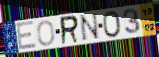3: (122, 8, 142, 35)
E: (15, 20, 38, 52)
N: (79, 12, 102, 43)
O: (102, 10, 123, 39), (36, 20, 56, 47)
R: (59, 14, 81, 47)
